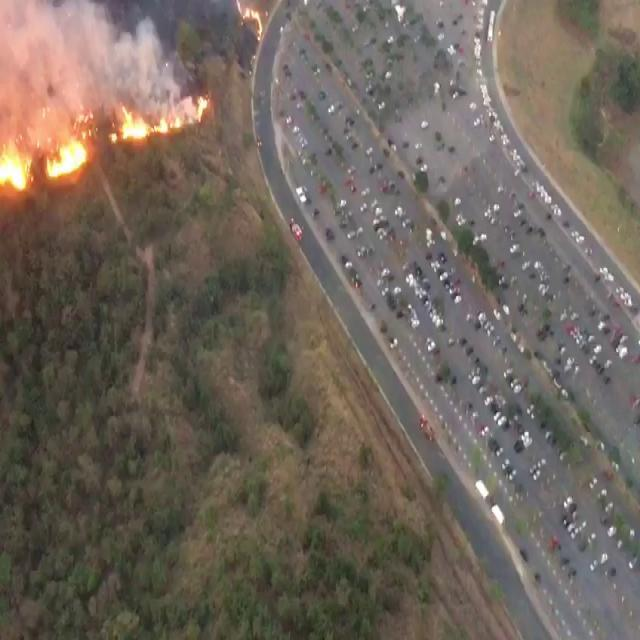Fire: (118, 104, 182, 143), (2, 134, 30, 194), (48, 132, 86, 175), (238, 2, 265, 40), (72, 106, 96, 128), (194, 90, 208, 122)
Smoke: (0, 0, 202, 156)
